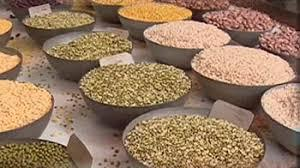Organic: (4, 5, 300, 168)
